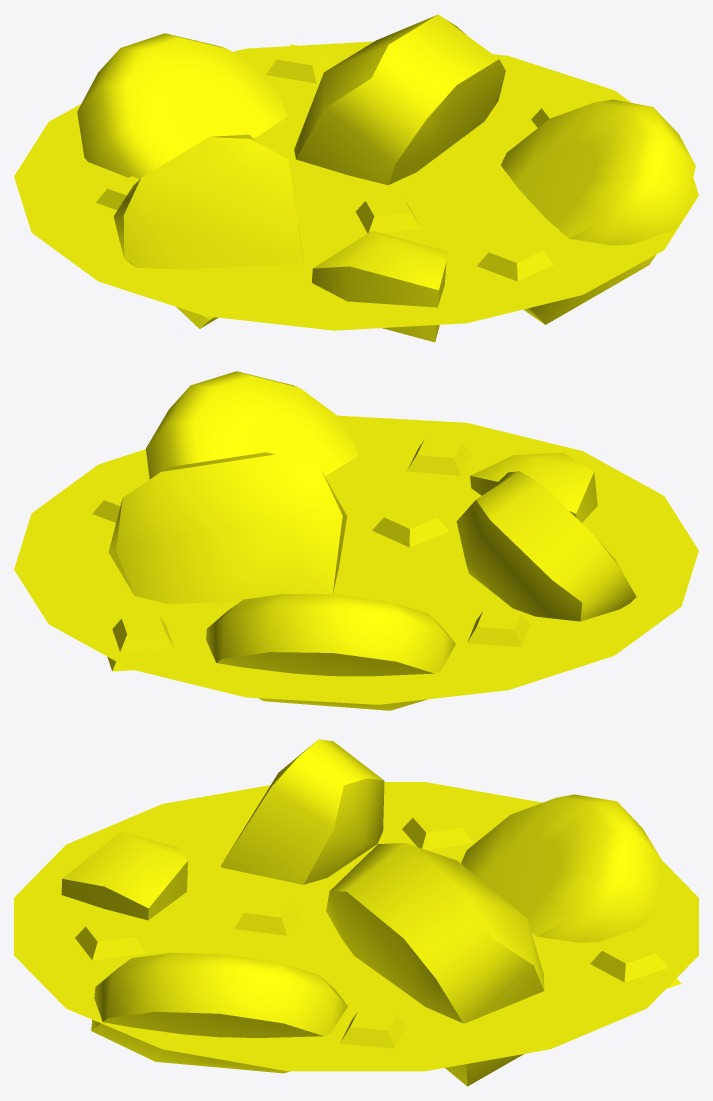
Rendered from stew_pot.gltf.
The picture shows the model from 3 angles, top to bottom: view 1: azimuth 30°, elevation 25°; view 2: azimuth 150°, elevation 25°; view 3: azimuth 270°, elevation 25°; orthographic projection.
Visible parts, largest first — view 1: stew_pot; view 2: stew_pot; view 3: stew_pot.
Boxes of the visible parts, left/top/right/bottom form: stew_pot: left=14, top=14, right=698, bottom=342; stew_pot: left=14, top=371, right=698, bottom=710; stew_pot: left=14, top=739, right=698, bottom=1086.
Size of the model in its own units: 0.737 by 0.25 by 0.737.
Materials: 1 (1 with a texture image).
